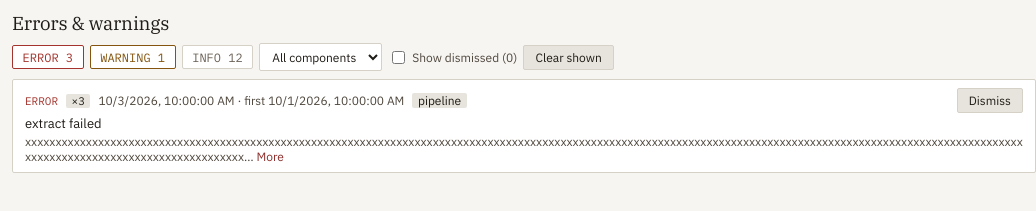
Test: errors & warnings panel (R47.2) › dismisses one row by its own key and clears the shown filter
Step 1. Click the button "Dismiss" → (990, 101), box [957, 88, 1023, 113]
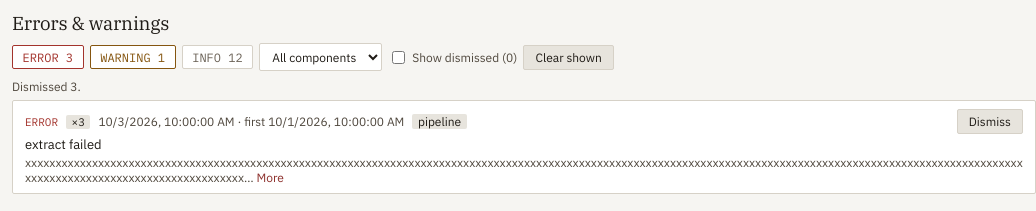
Expected: the text "Dismissed 3." is shown, [12, 79, 81, 94]
Step 2. Click the button "Clear shown" → (569, 57), box [523, 44, 614, 70]
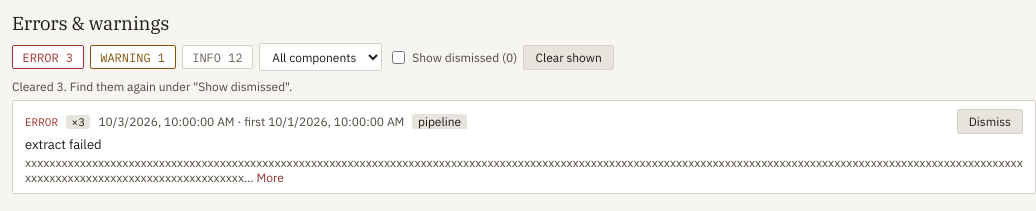
Expected: the text "Cleared 3." is shown, [12, 79, 292, 94]
